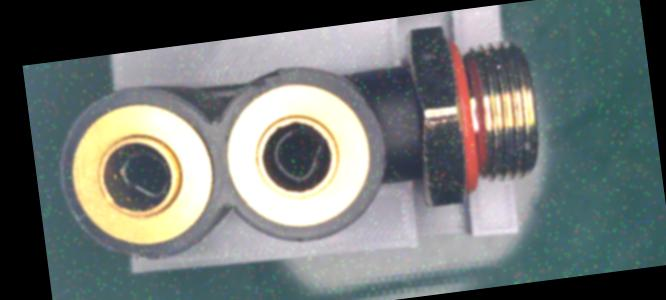bump: (108, 243, 155, 263), (239, 71, 283, 92)
joint line: (383, 119, 423, 133)
off-centered: (262, 123, 333, 185), (113, 144, 176, 201)
white mark: (396, 130, 414, 146)
